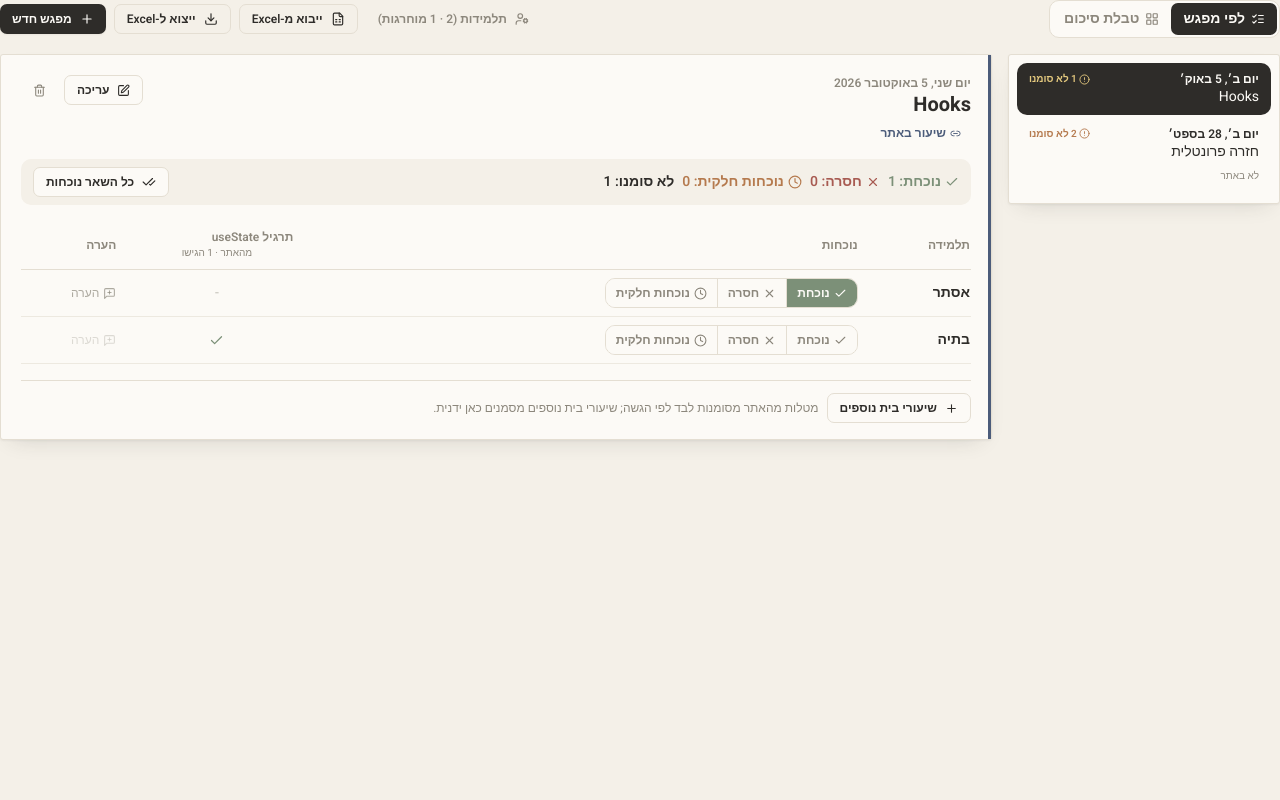
Scenario: AttendancePanel › does not export a range that ends before it starts
The image size is (1280, 800).
Click the button "ייצוא ל-Excel" at [172, 19], box x1=114 y1=4 x2=231 y2=34
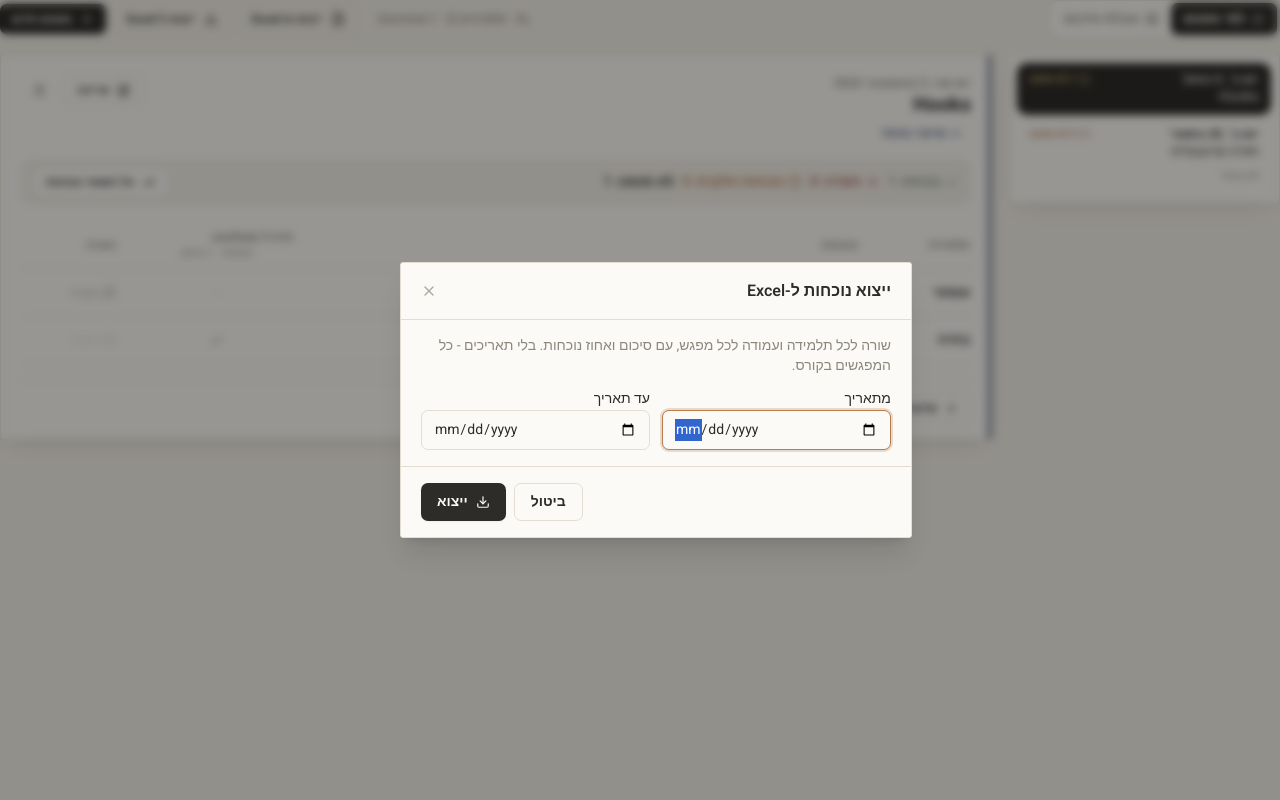
Type "2026-10-31" into the date field labelled "מתאריך" at [776, 430], box x1=662 y1=410 x2=891 y2=450
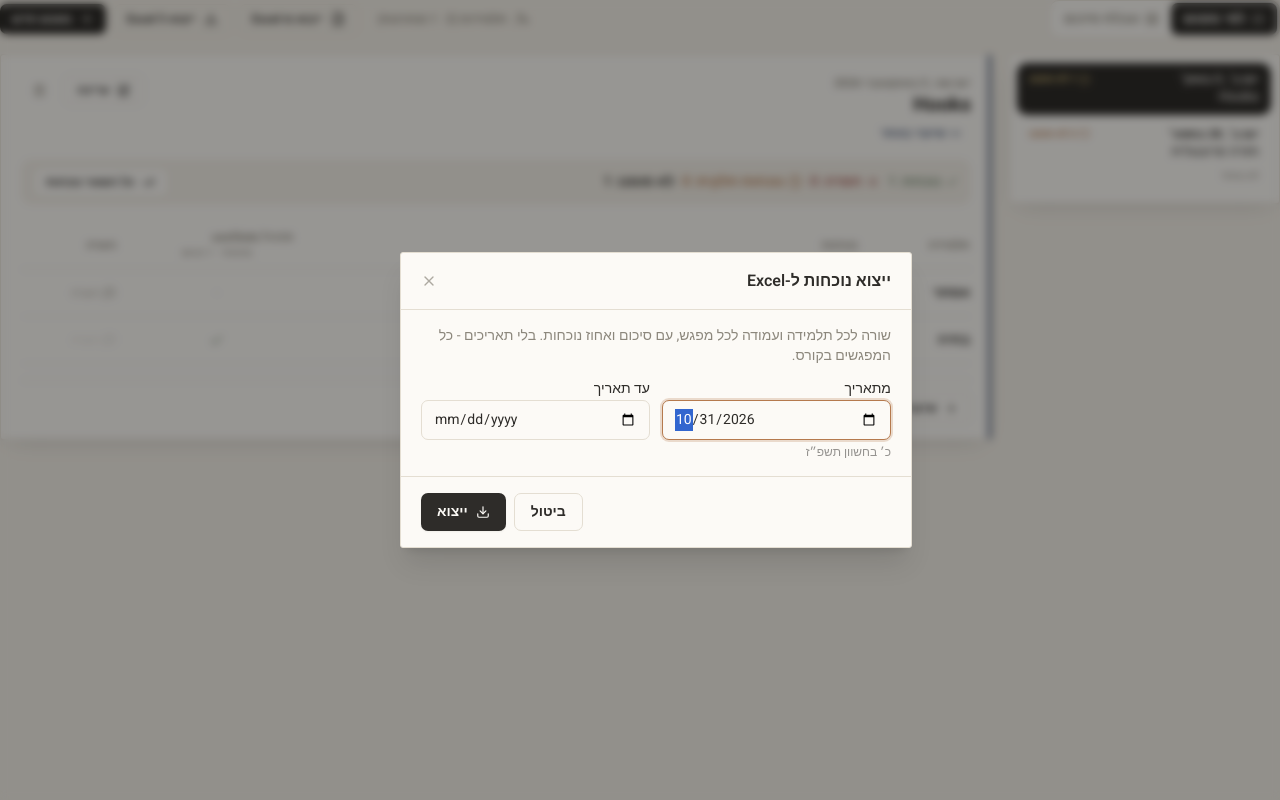
Type "2026-10-01" into the date field labelled "עד תאריך" at [536, 420], box x1=421 y1=400 x2=650 y2=440
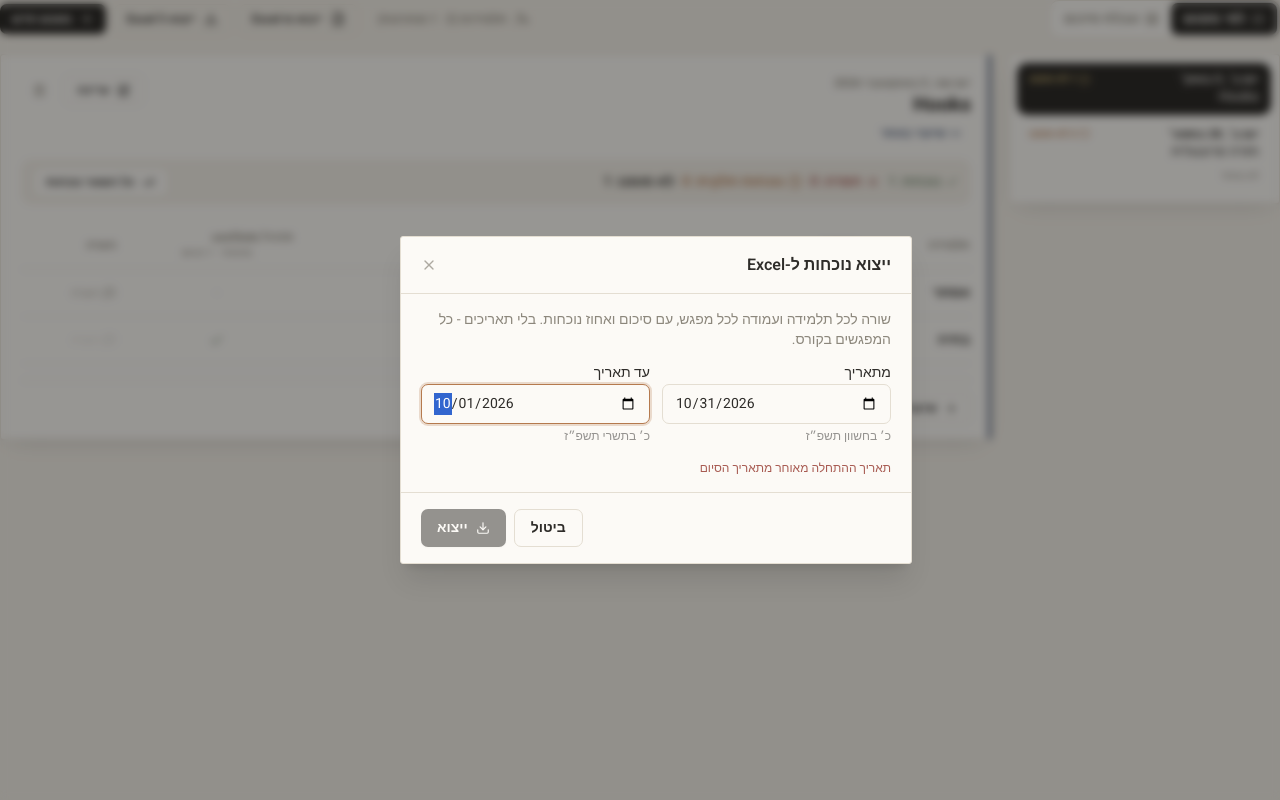
Check: the text "תאריך ההתחלה מאוחר מתאריך הסיום" is shown, box x1=700 y1=459 x2=891 y2=477
Check: the button "ייצוא" is disabled, box x1=421 y1=509 x2=506 y2=547
